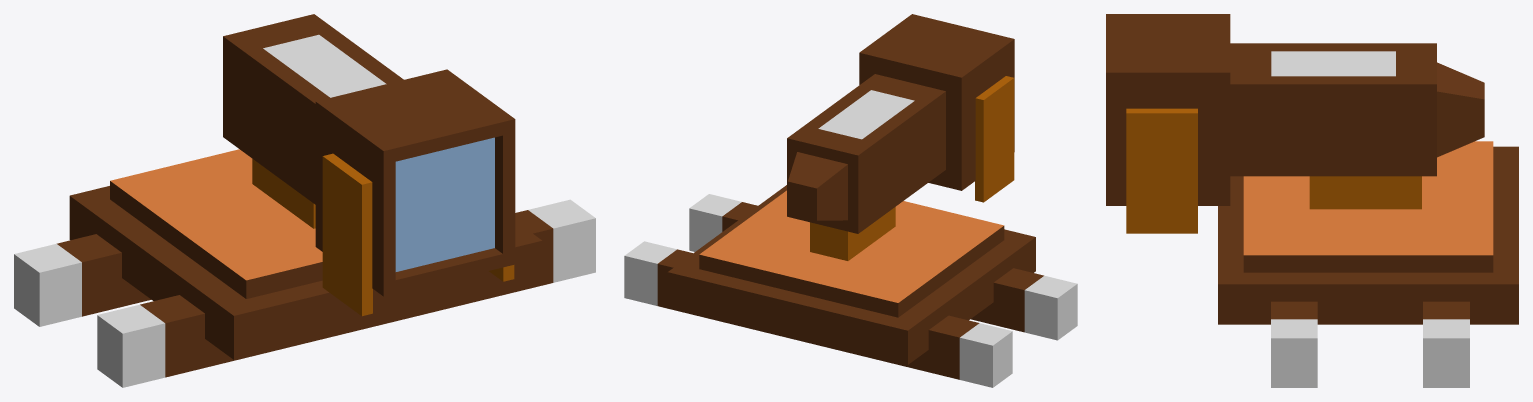
The model's file is OF_DogLaser.fbx.
The picture shows the model from 3 angles, left to right: view 1: azimuth 30°, elevation 25°; view 2: azimuth 150°, elevation 25°; view 3: azimuth 270°, elevation 25°; orthographic projection. The views are drawn at different scales.
Visible parts, largest first — view 1: Perro; view 2: Perro; view 3: Perro.
Boxes of the visible parts, x1,y1,x2,y2 form: Perro: (14, 14, 595, 387); Perro: (624, 14, 1077, 387); Perro: (1106, 14, 1518, 387).
Bounding box in the file's own units: 163 × 86.1 × 135.
